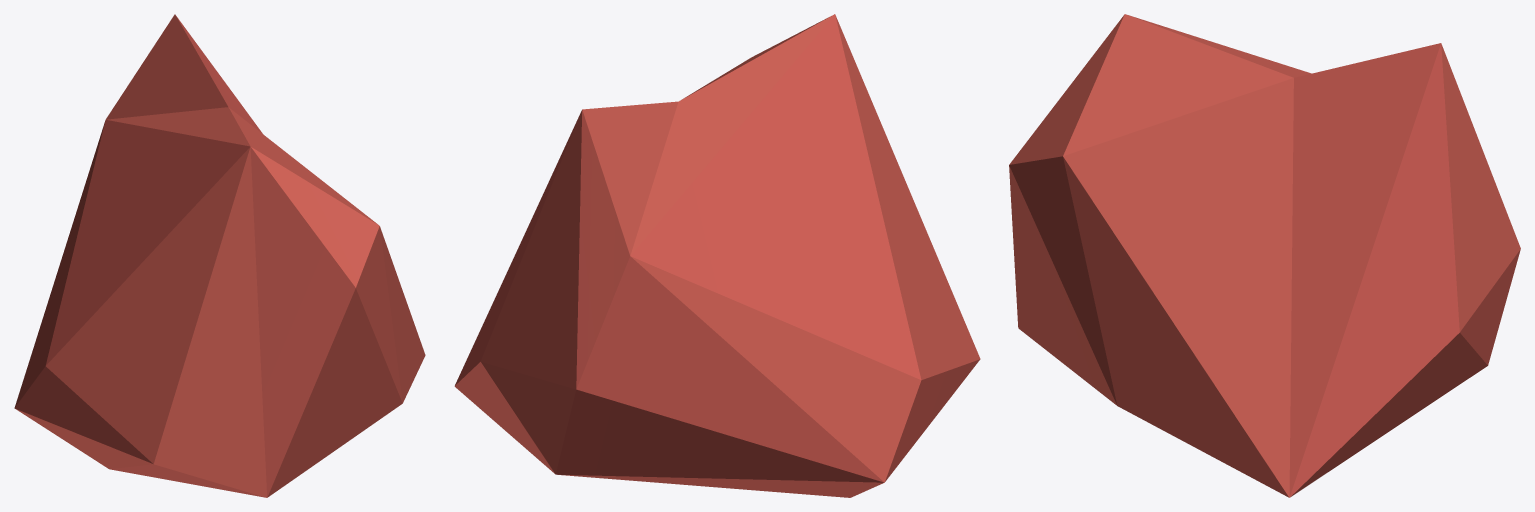
File: littleredrock5.fbx
3 views of the same model, side by side, from view 1: azimuth 30°, elevation 25°; view 2: azimuth 150°, elevation 25°; view 3: azimuth 270°, elevation 25° (orthographic). The views are drawn at different scales.
Visible parts, largest first — view 1: rock.012; view 2: rock.012; view 3: rock.012.
Boxes of the visible parts, left/top/right/bottom form: rock.012: left=14, top=14, right=425, bottom=497; rock.012: left=454, top=14, right=980, bottom=497; rock.012: left=1009, top=14, right=1520, bottom=497.
Size of the model in its own units: 52.64 by 49.39 by 55.33.
